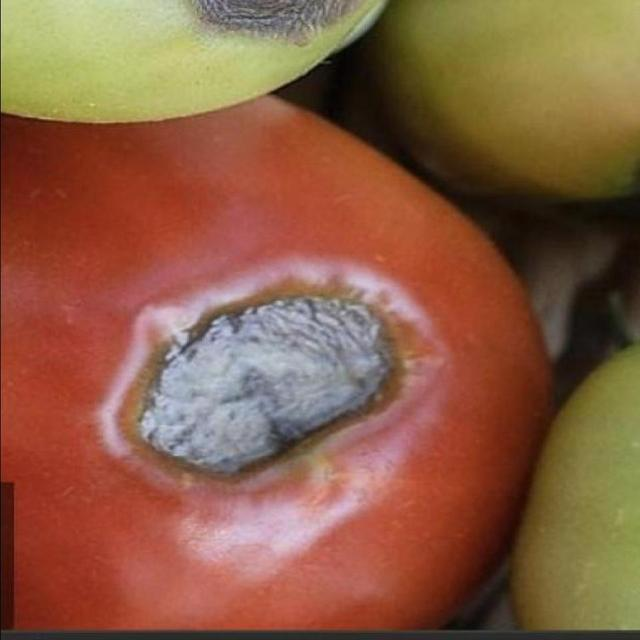Blossom End Rot Fruit: (67, 178, 297, 325)
